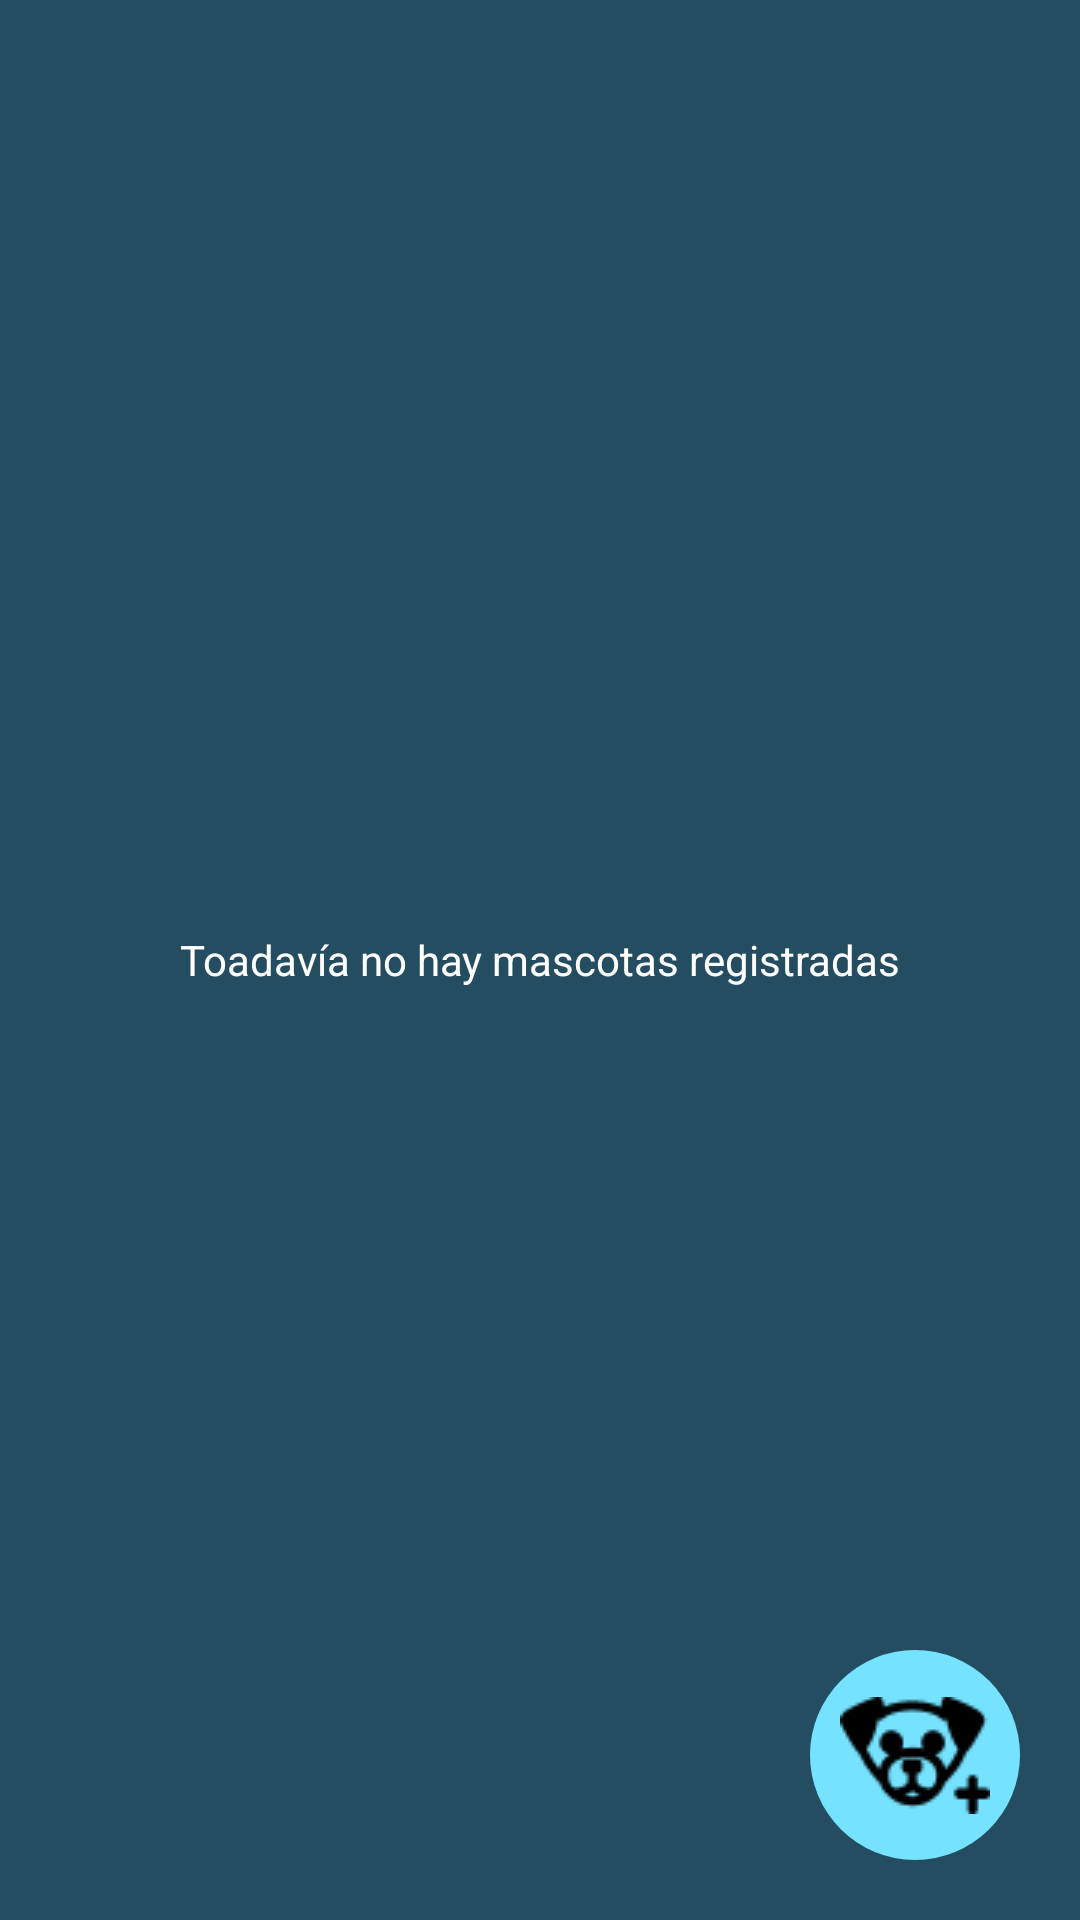

Named icons in this screenshot (1080px×1920px) and their centers, point (x, y):
Add new pet button: point (915, 1755)
